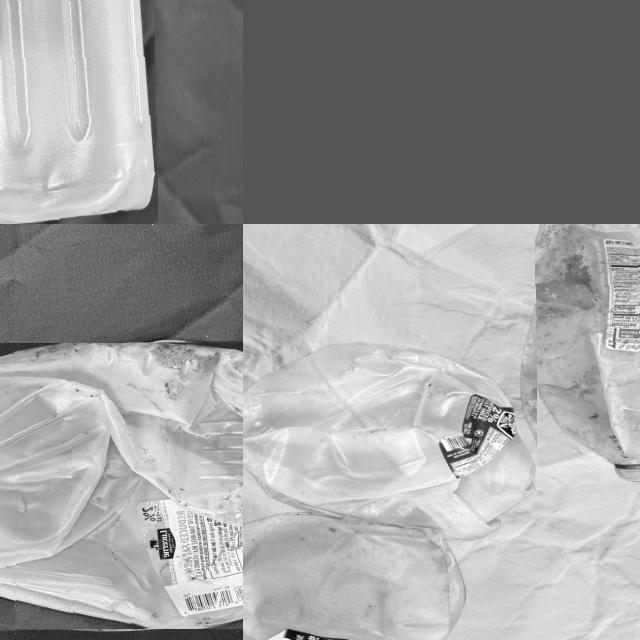milk-jug: (0, 341, 243, 631), (243, 342, 524, 544), (0, 0, 155, 224), (243, 518, 468, 640), (535, 224, 640, 484)
